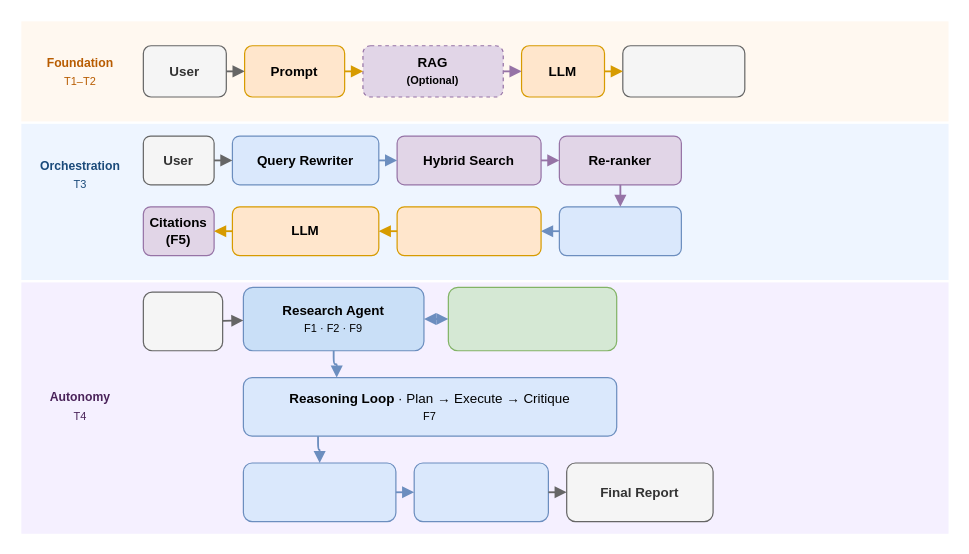
This 969x554 diagram has some shape labels left out. The shapes that lost their labels are listed below. From the top down, each one's centre as x and y in pixels, then its label:
the point at 683,71: Output
the point at 468,231: Few-Shot (F1)
the point at 619,231: Context Window
the point at 182,321: Goal
the point at 532,318: Web / Doc Tools F8 · F9
the point at 319,492: Writer Agent F3 · F6
the point at 480,492: Editor Agent
